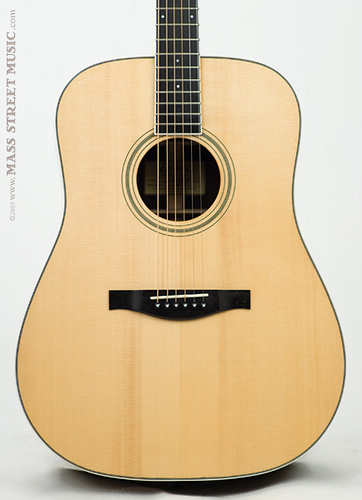guitar: (14, 1, 347, 490)
